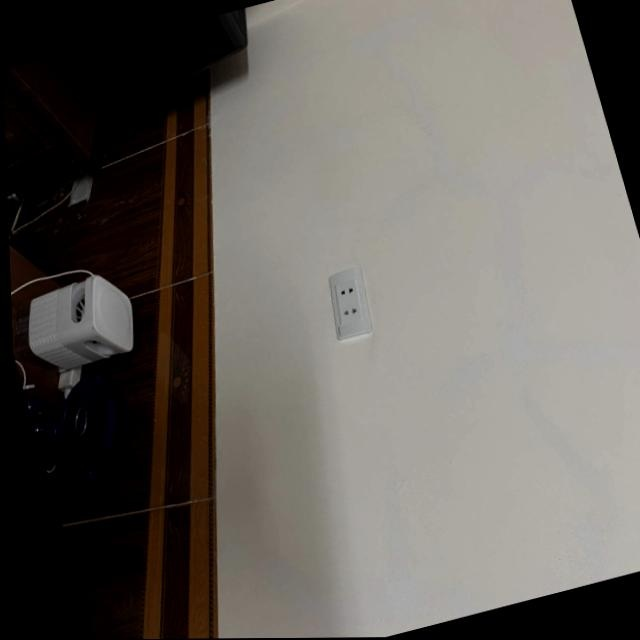outlet: (318, 265, 378, 342)
